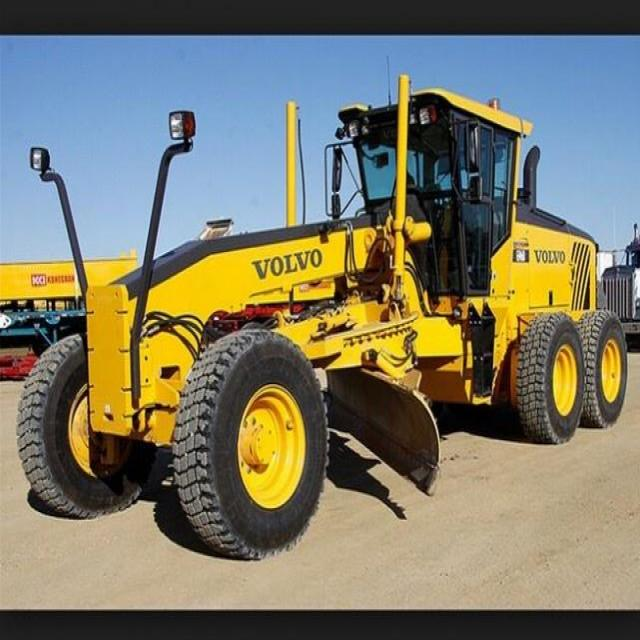Grader: (16, 62, 629, 570)
